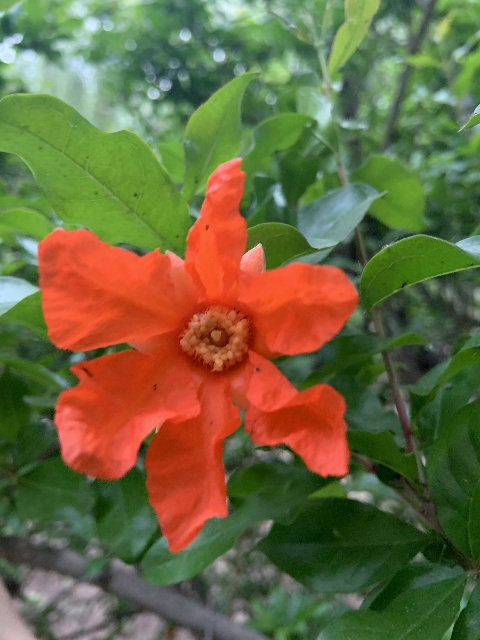flower: (36, 157, 358, 553)
